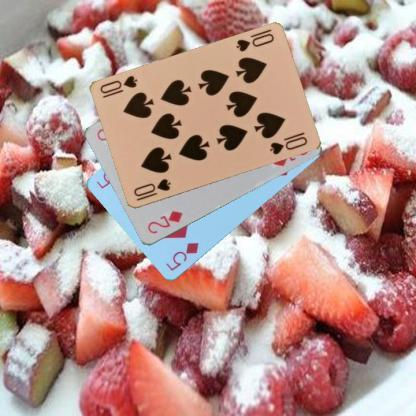10s: (130, 176, 173, 203), (233, 30, 275, 53)
2d: (144, 208, 184, 236)
5d: (163, 240, 200, 272)
